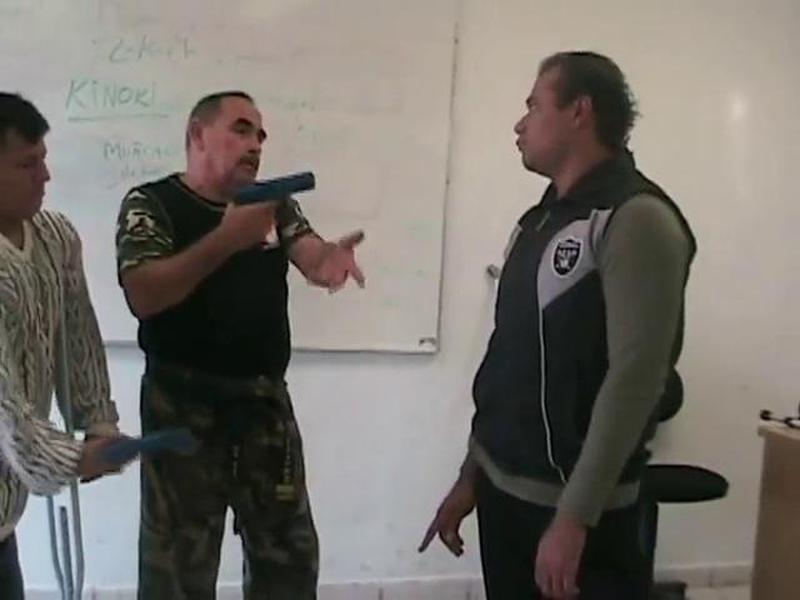Pistola: (215, 162, 337, 246)
